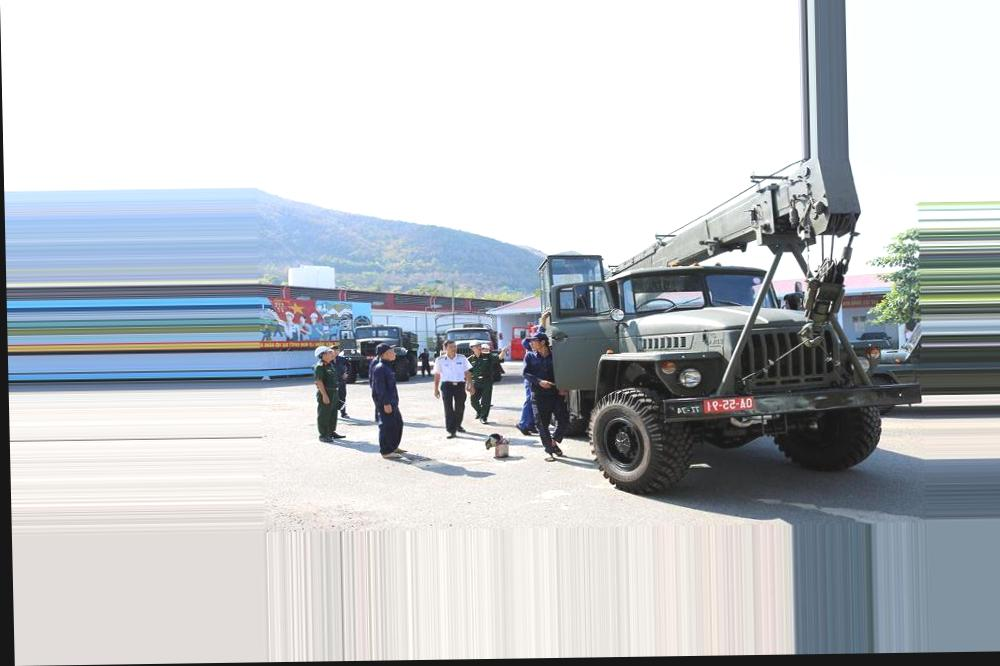License_Plate: (697, 391, 757, 417)
